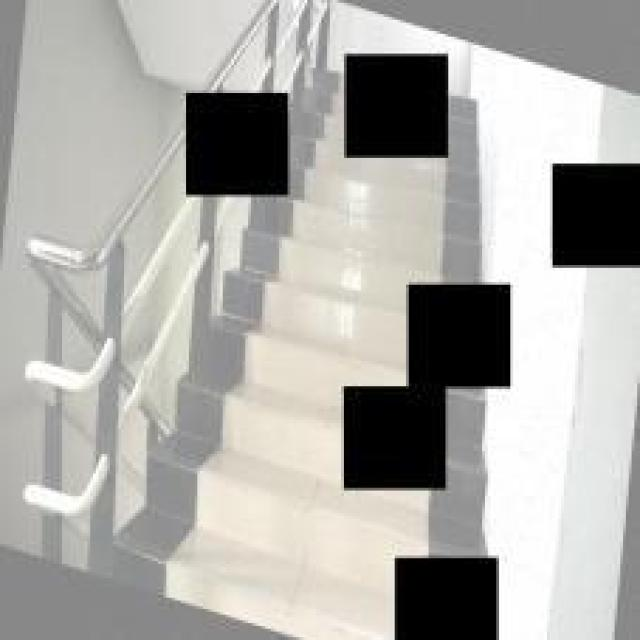upstair: (128, 435, 339, 638), (317, 165, 492, 280)
